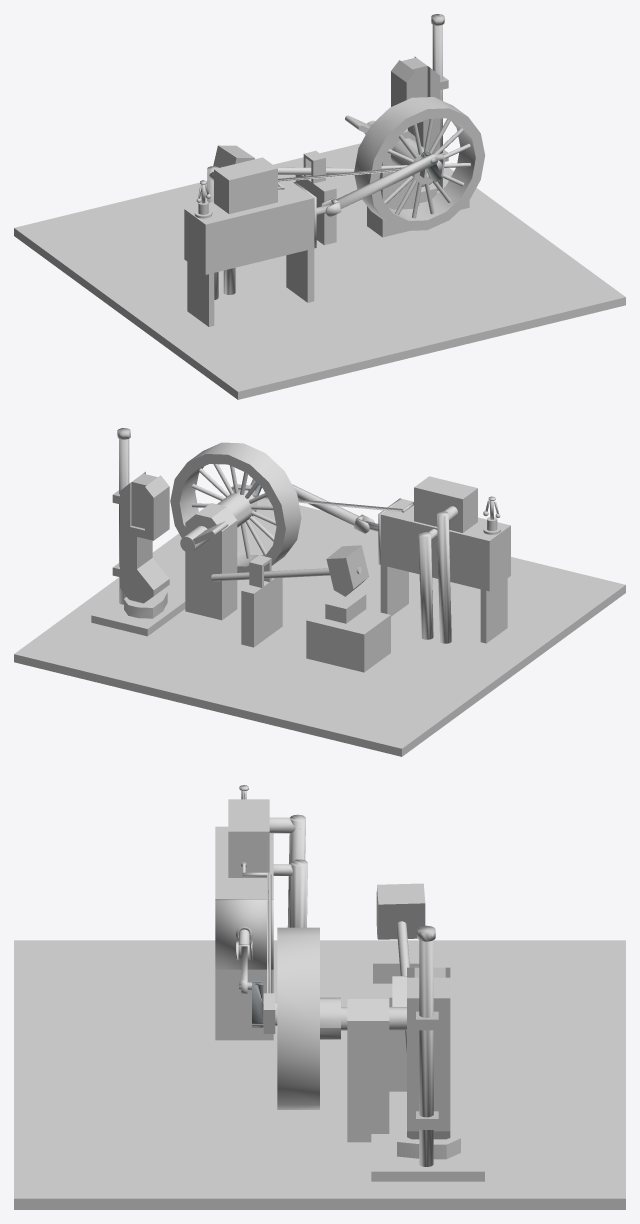
The model's file is Steam EngineV2_6.dae.
The picture shows the model from 3 angles, top to bottom: view 1: azimuth 30°, elevation 25°; view 2: azimuth 150°, elevation 25°; view 3: azimuth 270°, elevation 25°; orthographic projection. The views are drawn at different scales.
Visible parts, largest first — view 1: mesh97, mesh91, mesh132, mesh63, mesh1, mesh89, mesh127, mesh39, mesh6, mesh99, mesh16, mesh72 (+2 smaller); view 2: mesh97, mesh91, mesh132, mesh89, mesh43, mesh63, mesh99, mesh14, mesh86, mesh57, mesh68, mesh127 (+10 smaller); view 3: mesh97, mesh91, mesh89, mesh14, mesh61, mesh39, mesh72, mesh63, mesh57, mesh132, mesh16, mesh69 (+10 smaller).
Boxes of the visible parts, x1,y1,x2,y2 form: mesh97: (14, 143, 625, 399); mesh91: (354, 97, 485, 230); mesh132: (184, 182, 314, 274); mesh63: (391, 56, 440, 122); mesh1: (227, 171, 277, 214); mesh89: (367, 130, 419, 237); mesh127: (187, 262, 214, 326); mesh39: (286, 248, 314, 302); mesh6: (336, 153, 438, 208); mesh99: (295, 175, 336, 245); mesh16: (214, 157, 277, 183); mesh72: (432, 24, 442, 190); mesh97: (14, 495, 625, 756); mesh91: (170, 442, 301, 572); mesh132: (380, 499, 510, 591); mesh89: (185, 503, 237, 620); mesh43: (306, 607, 390, 672); mesh63: (120, 471, 169, 540); mesh99: (241, 570, 282, 647); mesh14: (91, 593, 185, 636); mesh86: (437, 511, 451, 643); mesh57: (326, 545, 368, 596); mesh68: (120, 558, 169, 603); mesh127: (480, 578, 507, 643); mesh97: (14, 940, 625, 1209); mesh91: (277, 927, 340, 1109); mesh89: (347, 988, 389, 1142); mesh14: (371, 1134, 484, 1181); mesh61: (215, 899, 273, 969); mesh39: (215, 969, 273, 1040); mesh72: (419, 940, 433, 1166); mesh63: (407, 967, 450, 1055); mesh57: (376, 883, 425, 939); mesh132: (215, 826, 273, 899); mesh16: (228, 799, 269, 835); mesh69: (407, 1055, 450, 1099).
Size of the model in its own units: 25.4 by 25.4 by 11.7.
